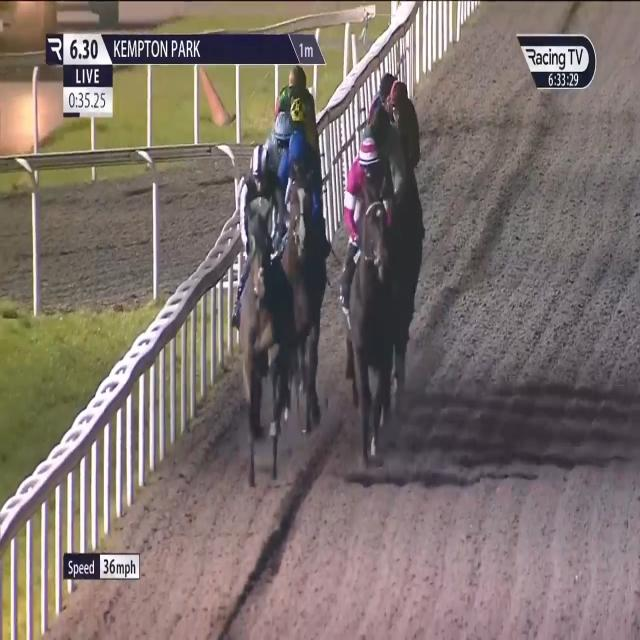horses-racing: (343, 131, 396, 456), (233, 147, 285, 458), (289, 127, 323, 415), (362, 93, 400, 167), (389, 79, 417, 144), (279, 61, 314, 107), (288, 92, 316, 148), (264, 113, 290, 170), (374, 67, 398, 106)
